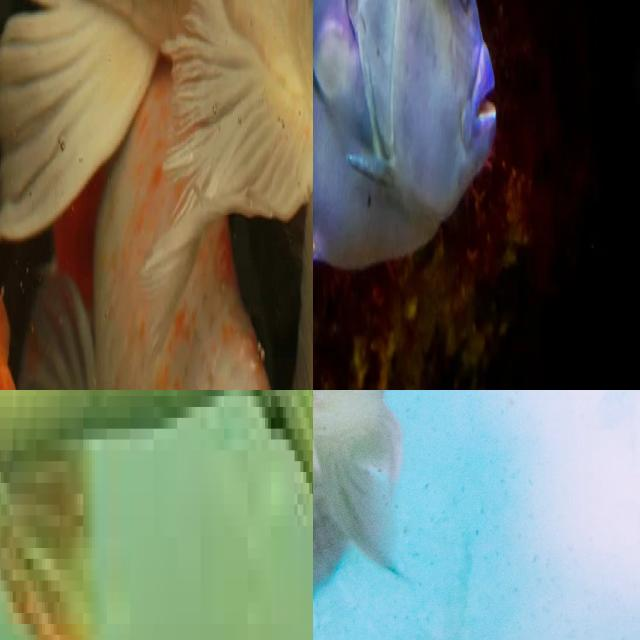fish: (313, 0, 640, 390), (0, 0, 313, 390), (313, 390, 588, 640)
